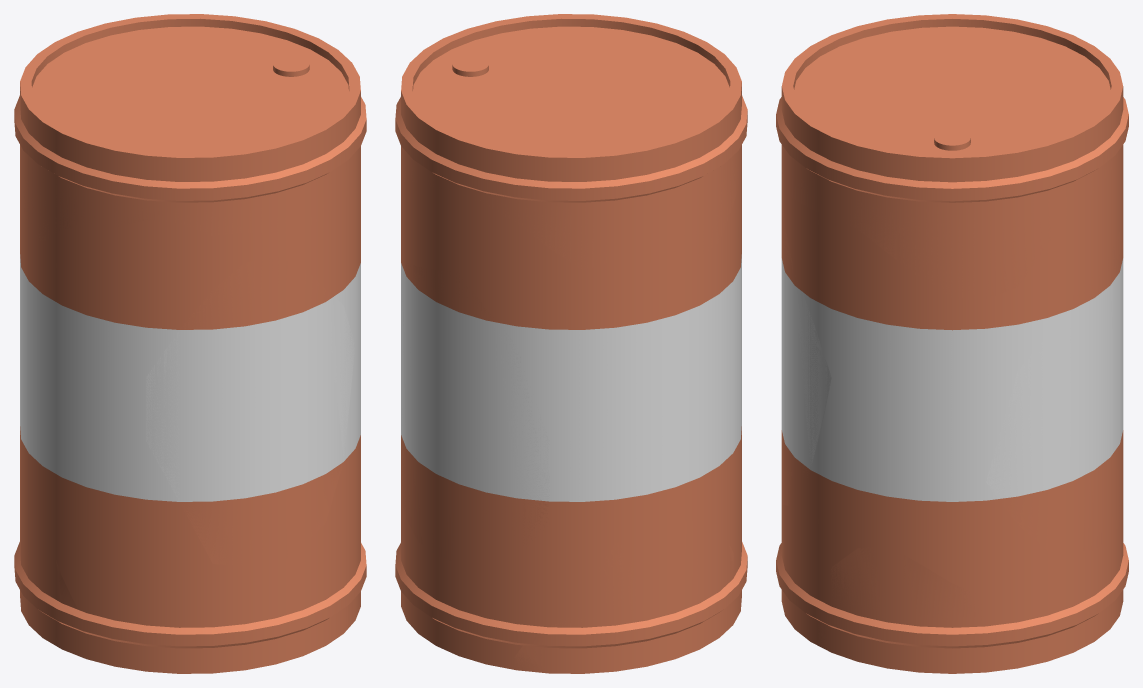
The model's file is Barrel.fbx.
3 renders of one model, left to right at view 1: azimuth 30°, elevation 25°; view 2: azimuth 150°, elevation 25°; view 3: azimuth 270°, elevation 25°, orthographic.
Visible parts, largest first — view 1: Barrel_LOD0, BarrelFragment1, BarrelFragment2, BarrelFragment4; view 2: Barrel_LOD0, BarrelFragment1, BarrelFragment3, BarrelFragment4; view 3: Barrel_LOD0, BarrelFragment1, BarrelFragment3, BarrelFragment5, BarrelFragment2.
Boxes of the visible parts, x1,y1,x2,y2 form: Barrel_LOD0: (14,14,366,673); BarrelFragment1: (20,26,360,241); BarrelFragment2: (146,257,354,566); BarrelFragment4: (20,472,77,649); Barrel_LOD0: (395,14,747,673); BarrelFragment1: (401,26,741,269); BarrelFragment3: (401,263,549,561); BarrelFragment4: (513,521,743,672); Barrel_LOD0: (776,14,1128,673); BarrelFragment1: (781,26,1121,299); BarrelFragment3: (986,232,1123,550); BarrelFragment5: (816,547,1001,671); BarrelFragment2: (781,196,831,505).
Size of what is drawn, in the model's own units: 62 by 100 by 62.
